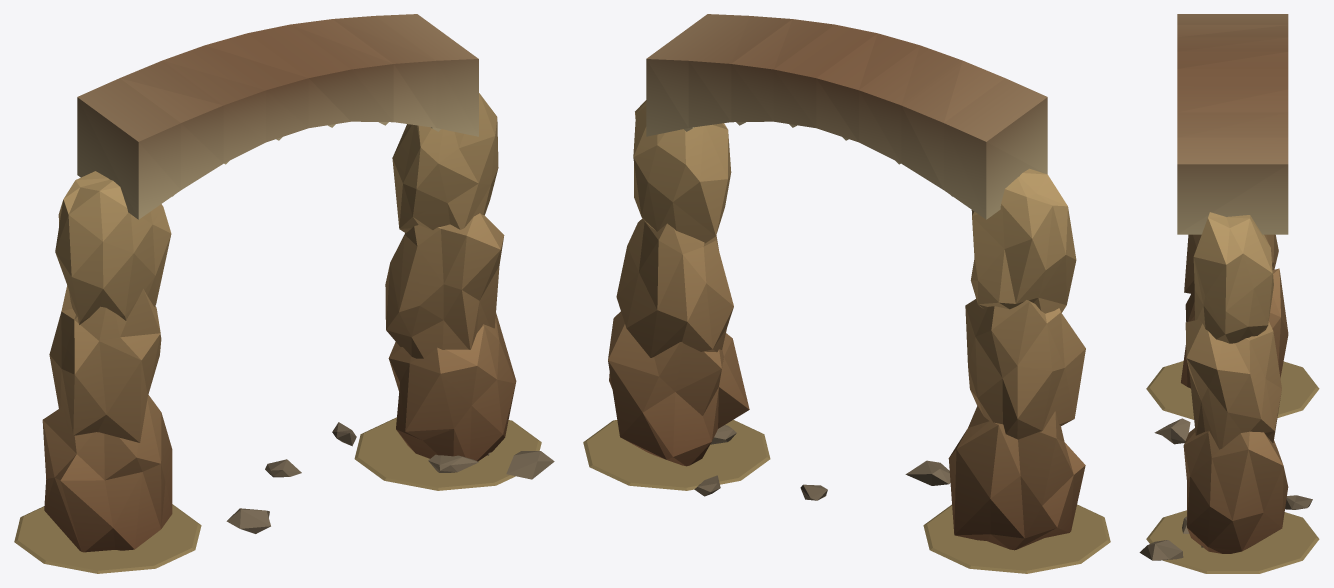
Rendered from rock_arch.glb.
The picture shows the model from 3 angles, left to right: view 1: azimuth 30°, elevation 25°; view 2: azimuth 150°, elevation 25°; view 3: azimuth 270°, elevation 25°; orthographic projection. The views are drawn at different scales.
Parts seen in each view (by area): view 1: rock_arch; view 2: rock_arch; view 3: rock_arch.
Boxes of the visible parts, box(x1,y1,x2,y2) form: rock_arch: box(14, 14, 554, 573); rock_arch: box(583, 14, 1110, 573); rock_arch: box(1139, 14, 1319, 573).
Bounding box in the file's own units: 3.75 × 3.14 × 1.3.
